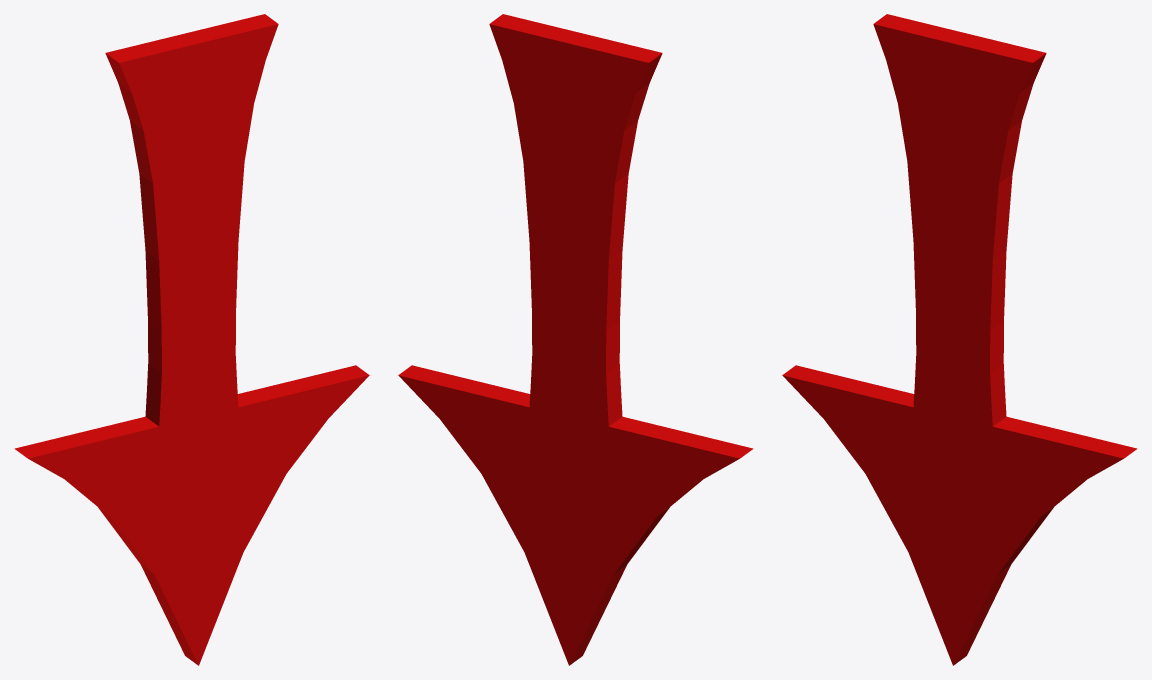
File: Arrow.obj
3 renders of one model, left to right at view 1: azimuth 30°, elevation 25°; view 2: azimuth 150°, elevation 25°; view 3: azimuth 330°, elevation 25°, orthographic.
Parts seen in each view (by area): view 1: arrow; view 2: arrow; view 3: arrow.
Part boxes in pixels (bbox=[...]): arrow: bbox=[14, 14, 369, 665]; arrow: bbox=[398, 14, 753, 665]; arrow: bbox=[782, 14, 1137, 665].
Bounding box in the file's own units: 1.91 × 3.32 × 0.1327.
Materials: 1 (1 with a texture image).
